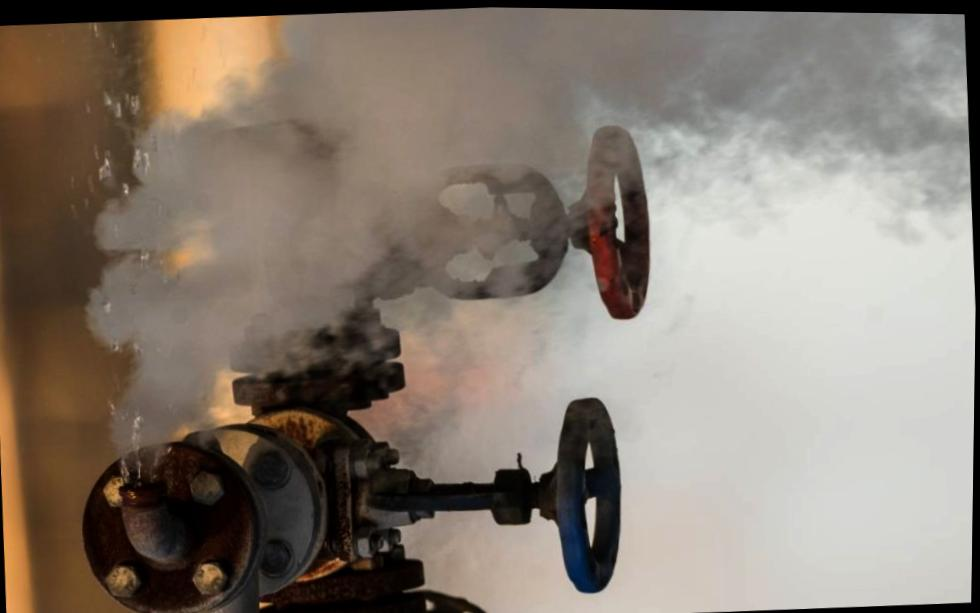leak: (83, 8, 967, 492)
